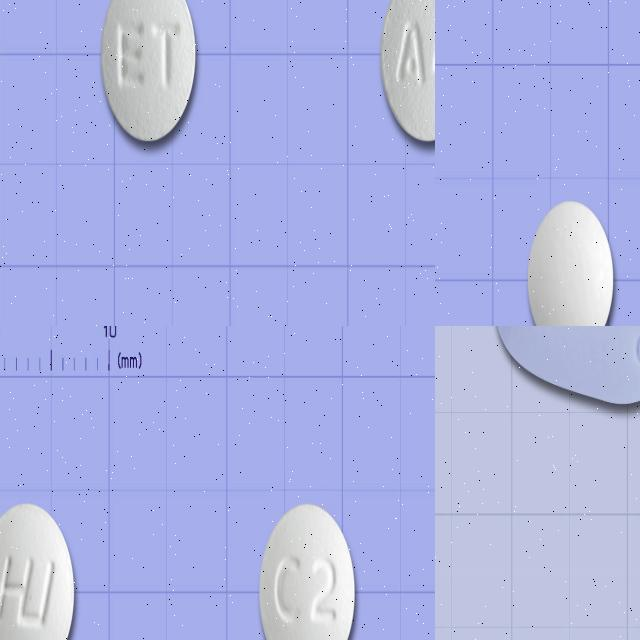Huloxacin: (258, 503, 355, 640), (0, 502, 76, 640)
Leflunomide - 20mg: (526, 199, 615, 326)
Leprex: (101, 0, 195, 140), (380, 0, 435, 145)
Whanin Levofloxacin Tab: (492, 326, 640, 404)
